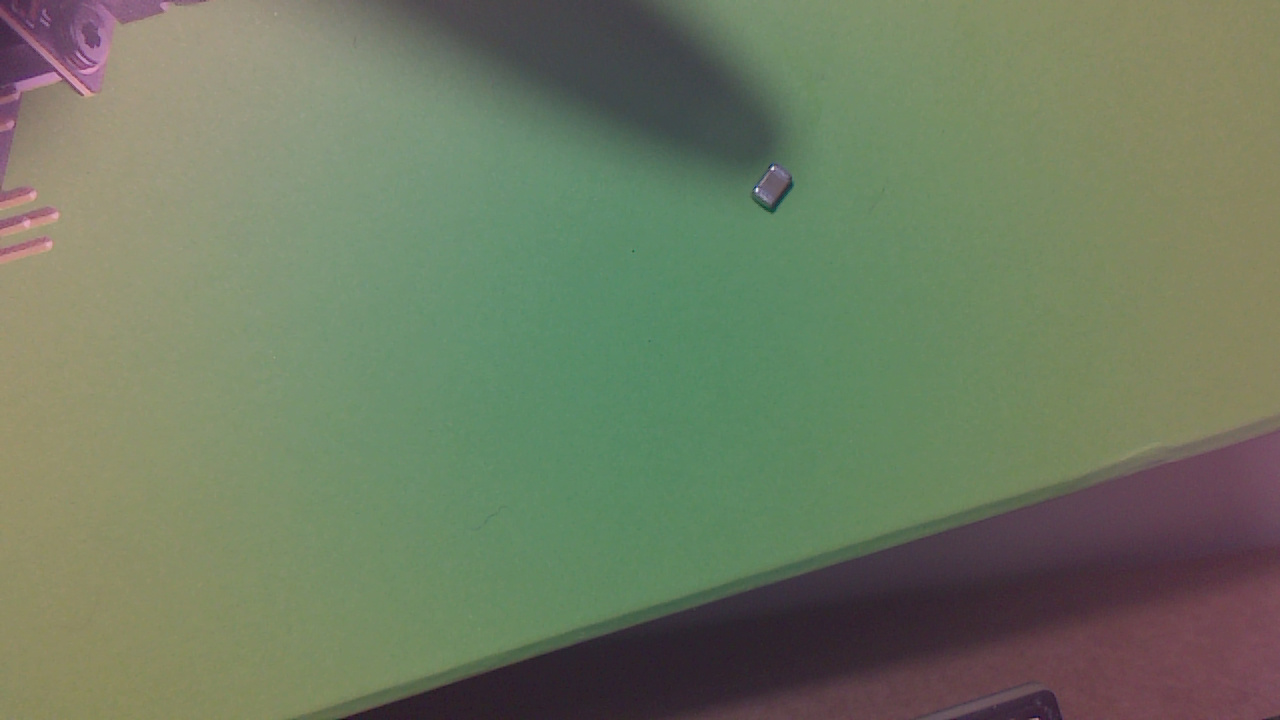Condensator: (757, 167, 797, 219)
